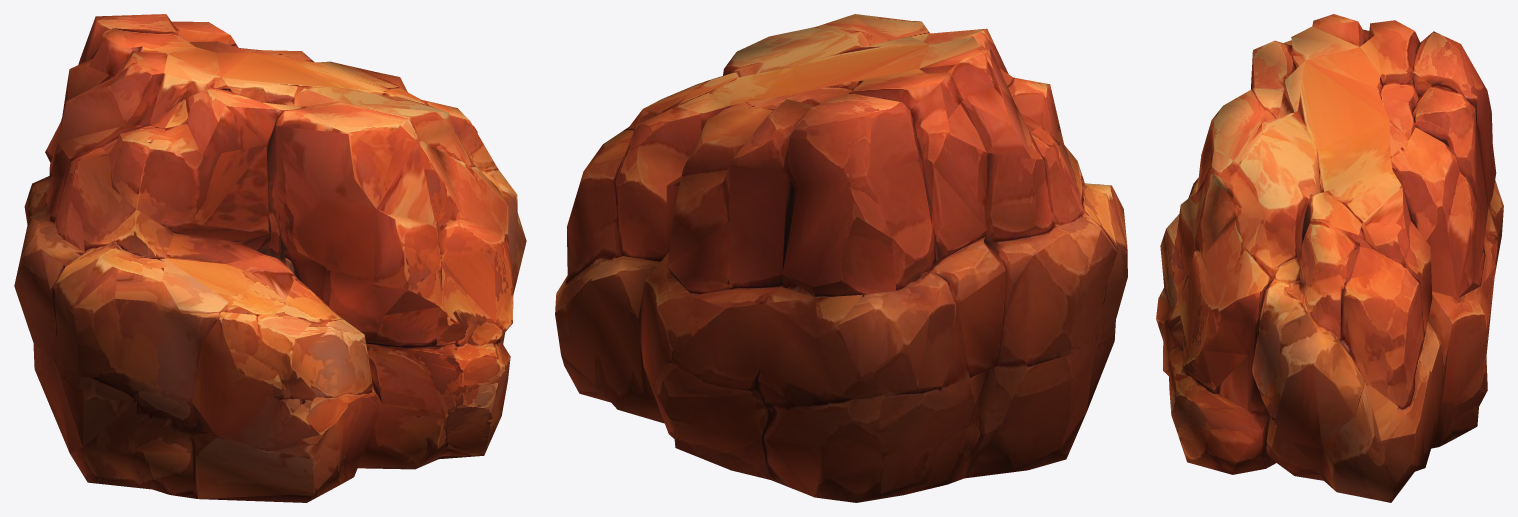
The model's file is rock.glb.
3 views of the same model, side by side, from view 1: azimuth 30°, elevation 25°; view 2: azimuth 150°, elevation 25°; view 3: azimuth 270°, elevation 25° (orthographic). The views are drawn at different scales.
Visible parts, largest first — view 1: RockMesh; view 2: RockMesh; view 3: RockMesh.
Part boxes in pixels (bbox=[...]): RockMesh: bbox=[14, 14, 526, 502]; RockMesh: bbox=[555, 14, 1127, 502]; RockMesh: bbox=[1156, 14, 1503, 502].
Size of the model in its own units: 1.11 by 0.84 by 0.7826.
Materials: 1 (1 with a texture image).
